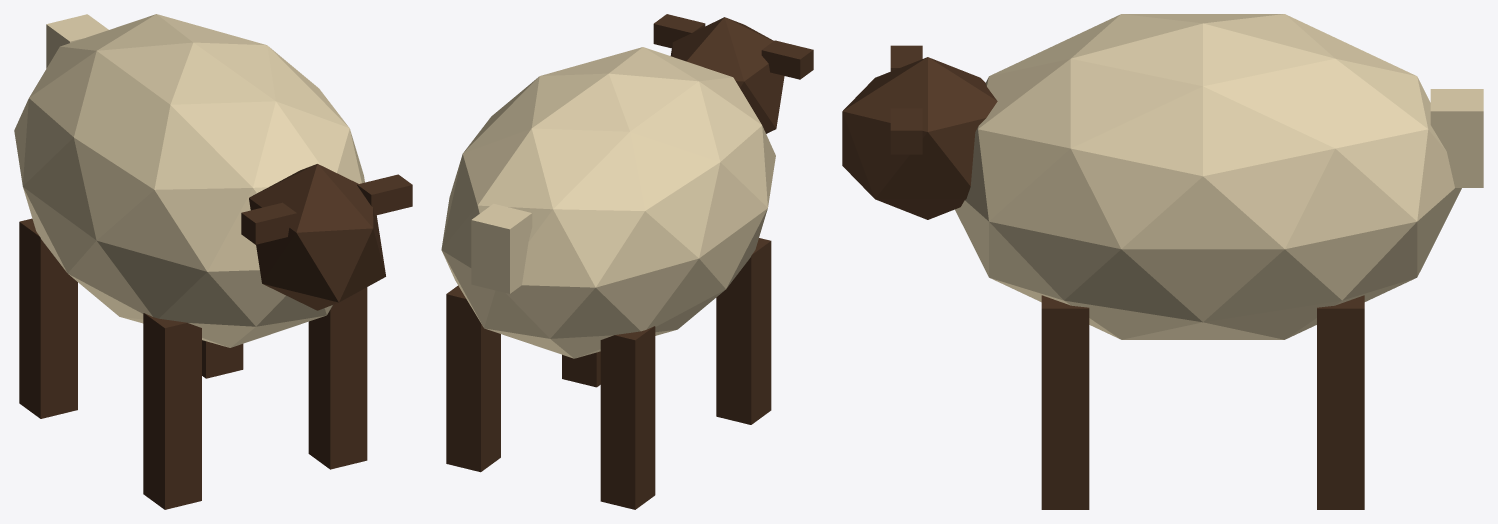
Rendered from prop_sheep.glb.
3 views of the same model, side by side, from view 1: azimuth 30°, elevation 25°; view 2: azimuth 150°, elevation 25°; view 3: azimuth 270°, elevation 25° (orthographic). The views are drawn at different scales.
Visible parts, largest first — view 1: prop_sheep; view 2: prop_sheep; view 3: prop_sheep.
Boxes of the visible parts, x1,y1,x2,y2 form: prop_sheep: (14, 14, 412, 509); prop_sheep: (441, 14, 813, 509); prop_sheep: (842, 14, 1483, 509).
Bounding box in the file's own units: 0.6467 × 0.9 × 1.21.
